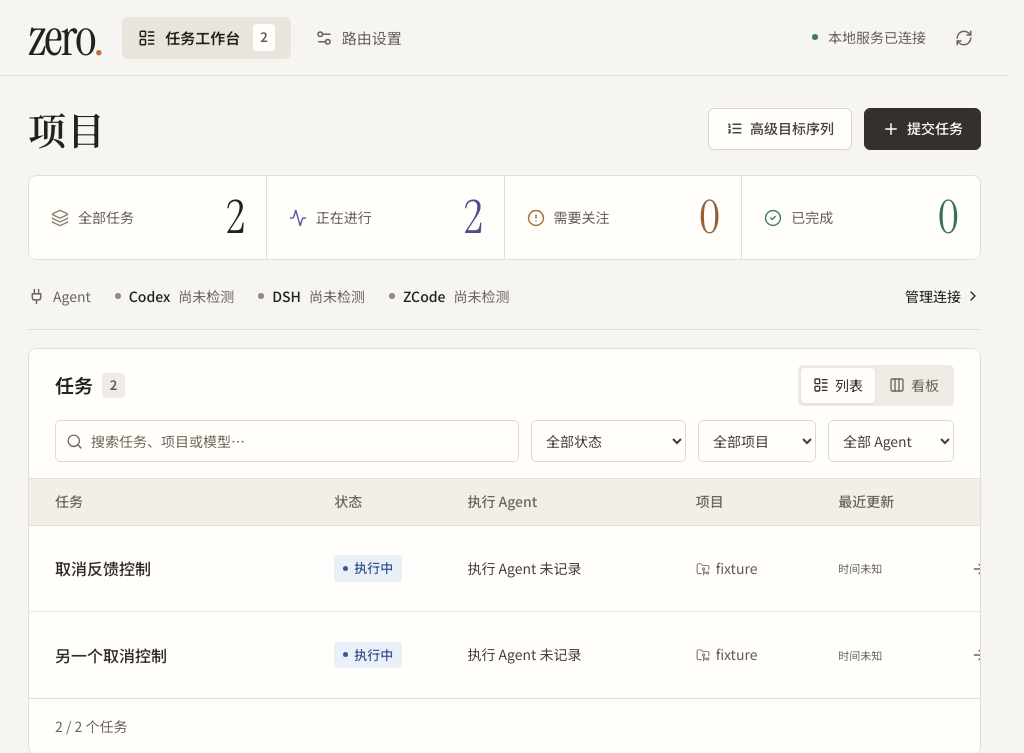
shows a current cancellation failure and permits retrying the same running task
Click the button "取消反馈控制" at (103, 569), box x1=55 y1=554 x2=151 y2=583
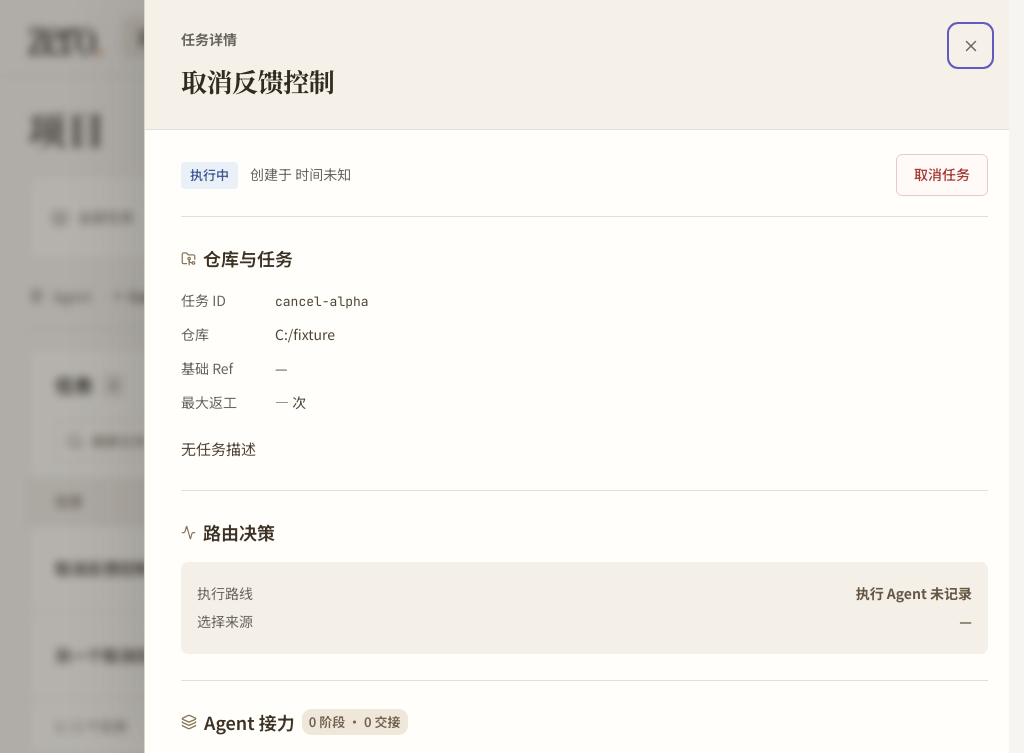
Click the button "取消任务" at (942, 175), box x1=896 y1=154 x2=988 y2=196
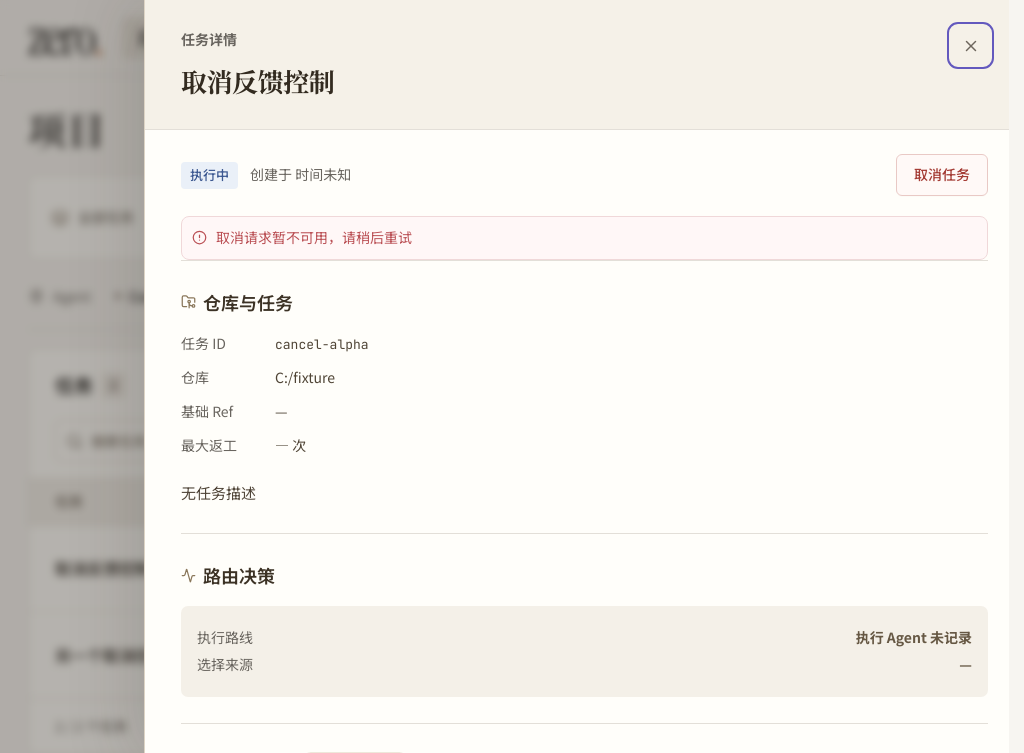
Expected: the button "取消任务" is enabled
Expected: the text "取消请求暂不可用，请稍后重试" is shown, x1=181 y1=216 x2=988 y2=260
Click the button "取消任务" at (942, 175), box x1=896 y1=154 x2=988 y2=196
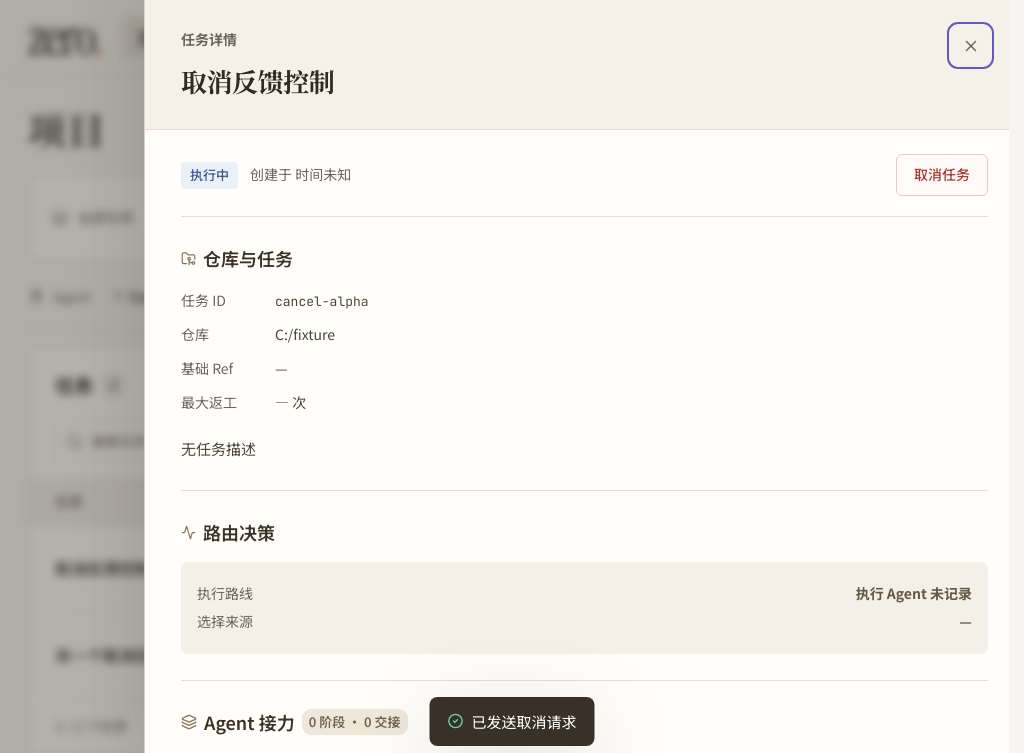
Expected: the text "取消请求暂不可用，请稍后重试" is gone
Expected: the message reads "已发送取消请求", x1=472 y1=710 x2=576 y2=732
